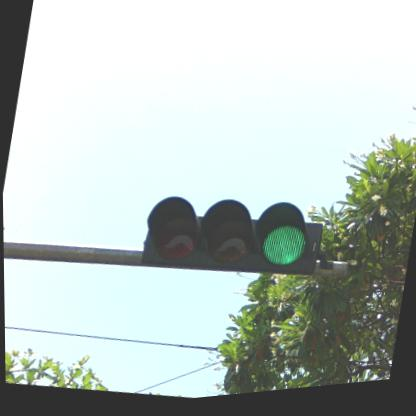green: (134, 181, 325, 302)
